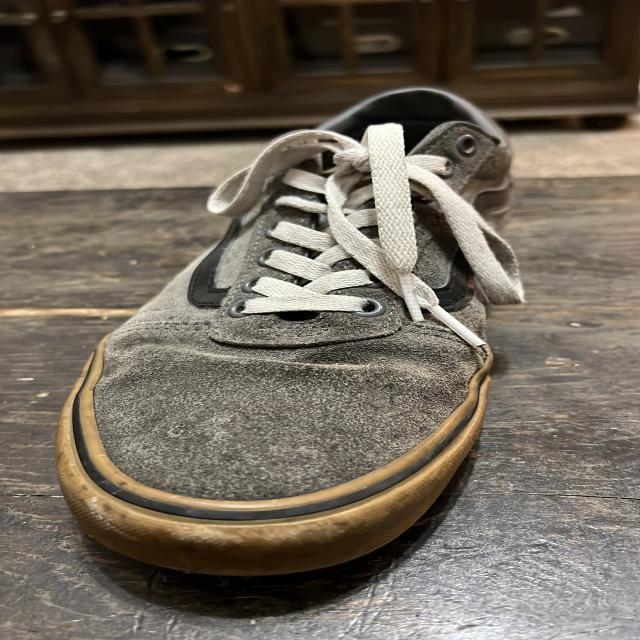shoes: (48, 83, 526, 578)
